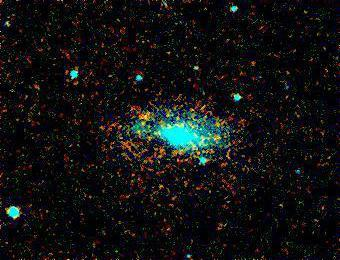star: (123, 103, 153, 133)
